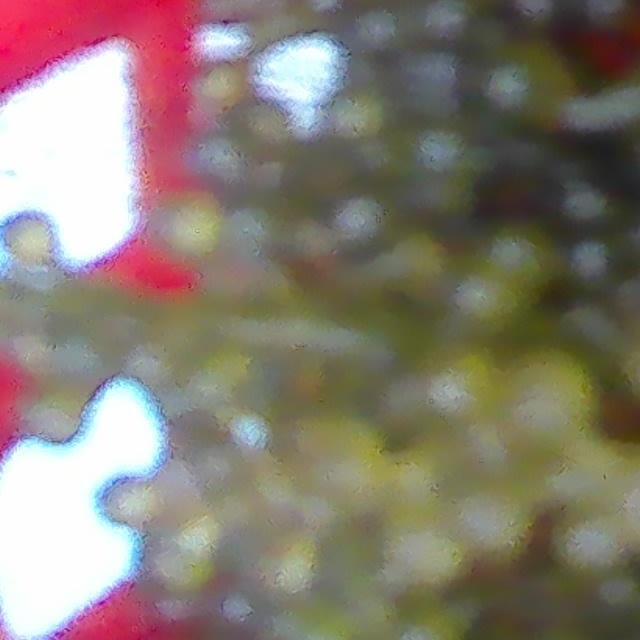SeaGrape: (499, 348, 602, 455), (424, 344, 505, 426), (456, 481, 534, 557), (554, 508, 626, 578)
